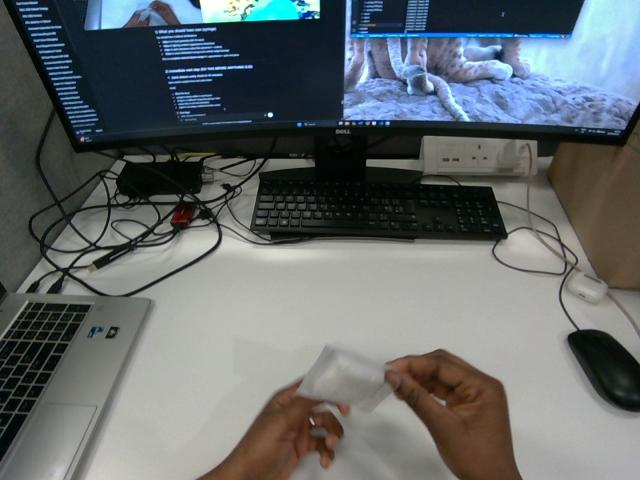gauze: (296, 345, 391, 412)
